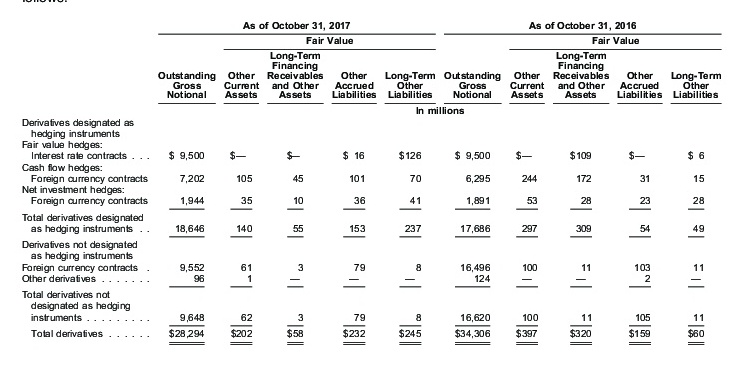table: (0, 0, 740, 369)
